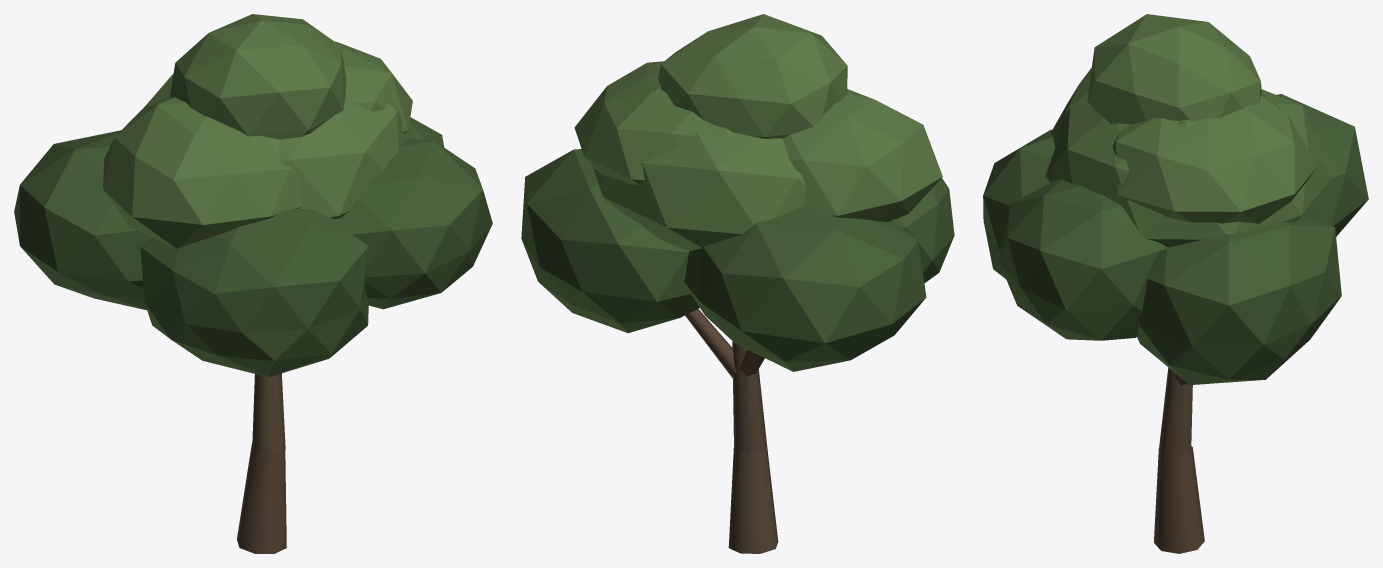
Rendered from tree_broad.glb.
3 renders of one model, left to right at view 1: azimuth 30°, elevation 25°; view 2: azimuth 150°, elevation 25°; view 3: azimuth 270°, elevation 25°, orthographic.
Visible parts, largest first — view 1: Foliage_Lower, Foliage_Upper, Trunk; view 2: Foliage_Upper, Foliage_Lower, Trunk; view 3: Foliage_Lower, Foliage_Upper, Trunk.
Boxes of the visible parts, left/top/right/bottom form: Foliage_Lower: left=14, top=117, right=492, bottom=377; Foliage_Upper: left=103, top=14, right=415, bottom=248; Trunk: left=237, top=373, right=286, bottom=553; Foliage_Upper: left=574, top=14, right=942, bottom=250; Foliage_Lower: left=521, top=149, right=954, bottom=371; Trunk: left=685, top=309, right=778, bottom=553; Foliage_Lower: left=983, top=94, right=1368, bottom=385; Foliage_Upper: left=1045, top=14, right=1332, bottom=247; Trunk: left=1154, top=367, right=1204, bottom=553.
Bounding box in the file's own units: 6.35 × 8.04 × 5.44.
